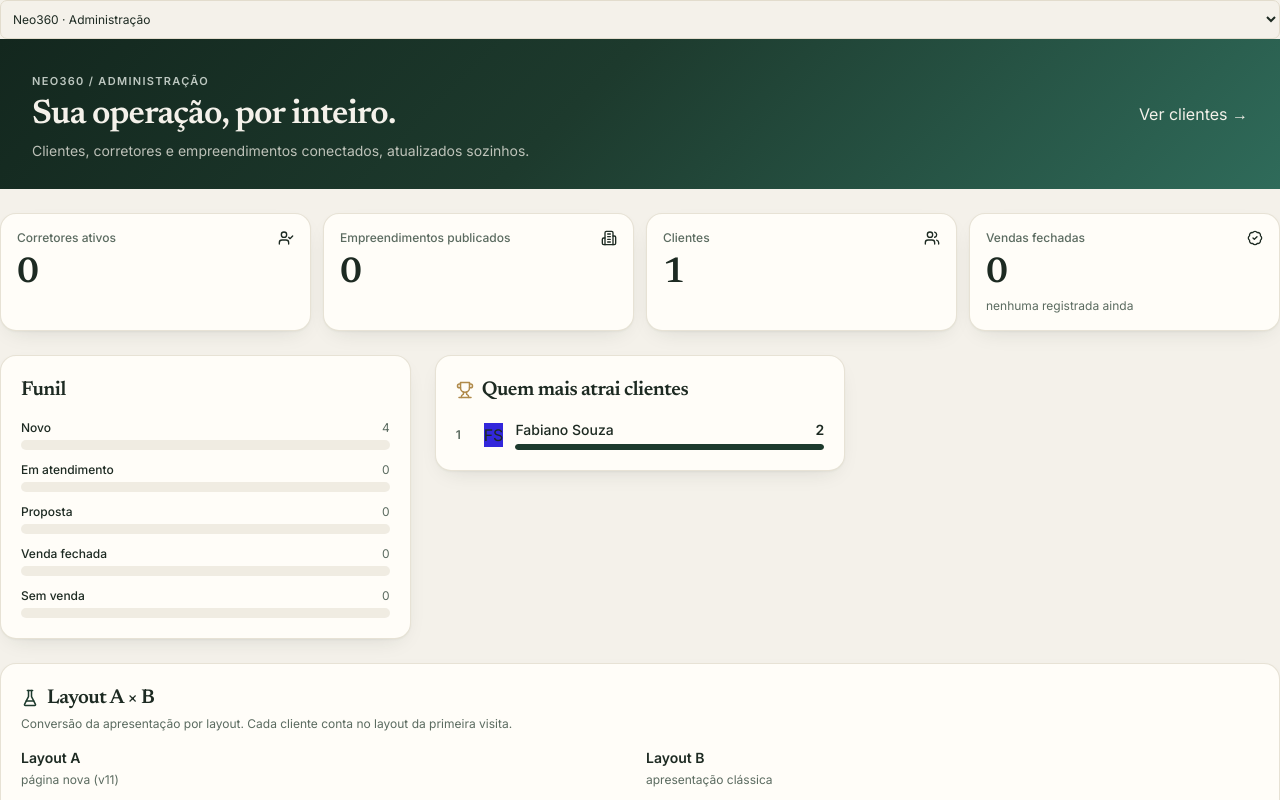
Test case: AdminHomePage · ver como (RN-01.10) › ao escolher um corretor, filtra números, feed e clientes por ele e tira o ranking
Select "Ver como Fabiano Souza" in the dropdown named "Visualizar como": (640, 20) x1=0 y1=0 x2=1279 y2=39
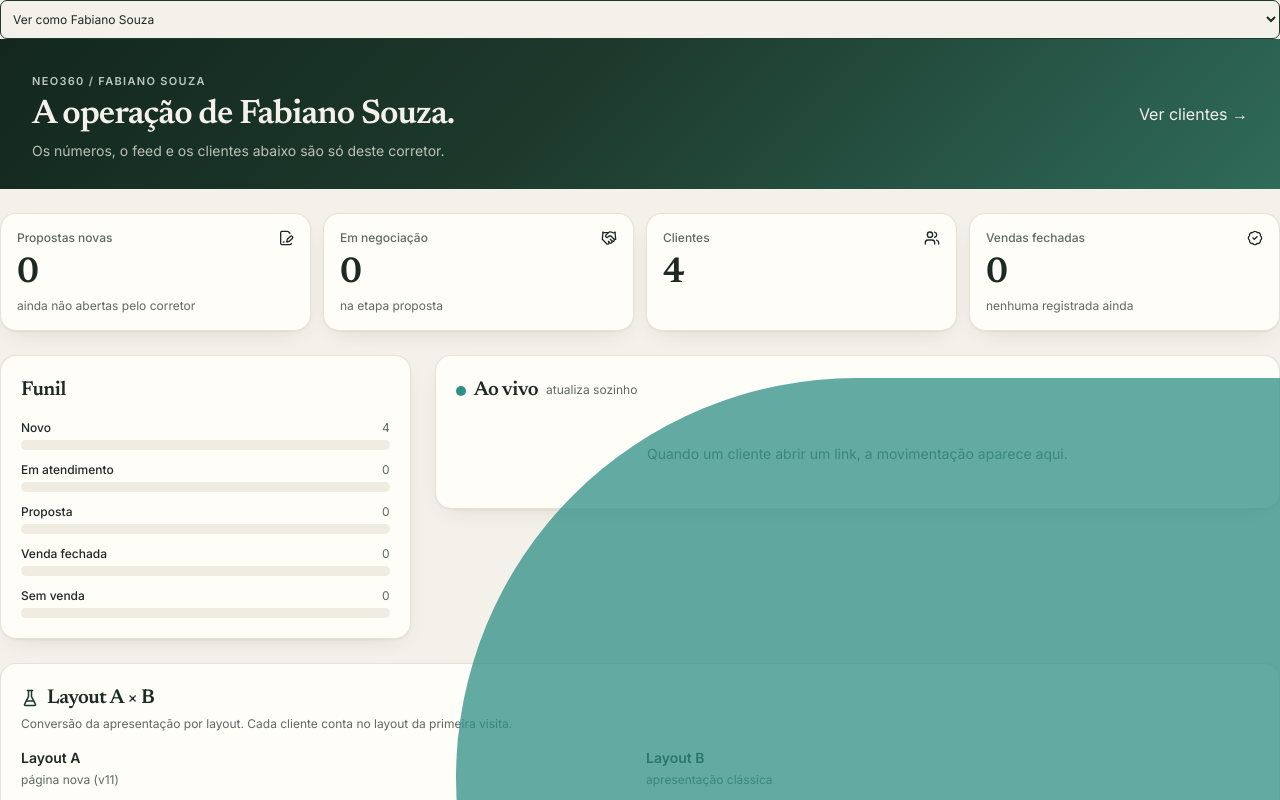
Now the heading "A operação de Fabiano Souza." is shown, box x1=32 y1=97 x2=454 y2=133
Now the heading "Quem mais atrai clientes" is gone
Now the text "Corretores ativos" is gone
